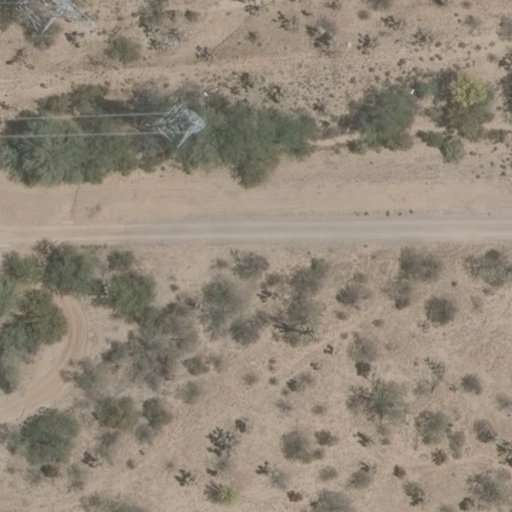TT: (136, 95, 213, 158), (4, 1, 97, 50)
